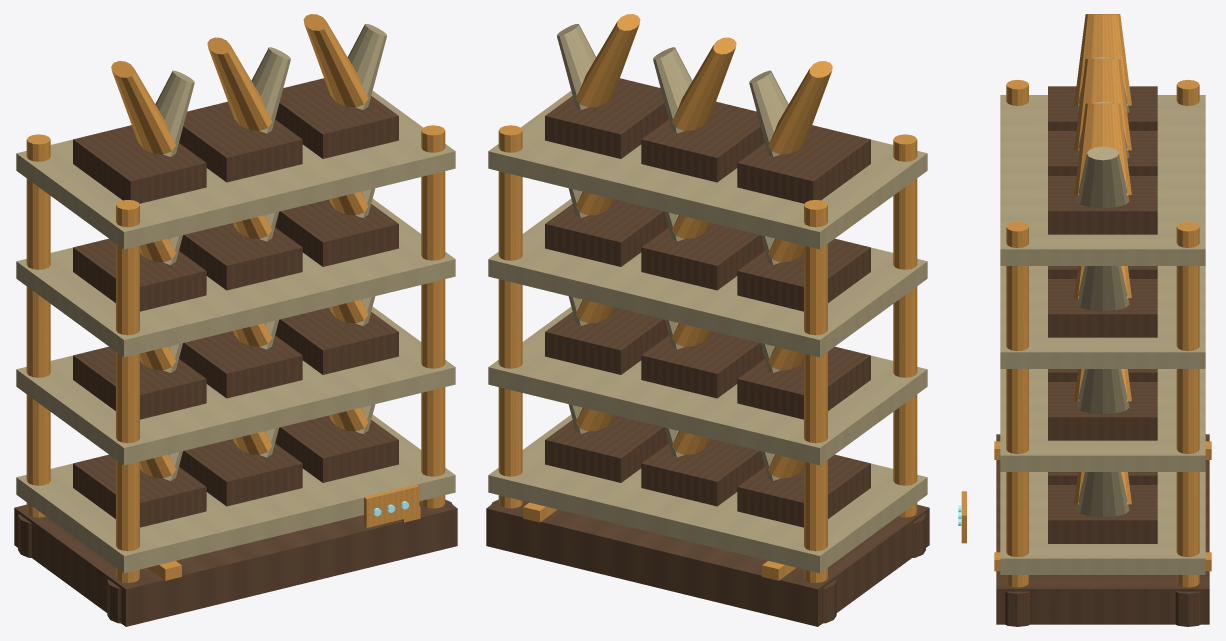
The model's file is atlas100-s014-a02.glb.
The picture shows the model from 3 angles, left to right: view 1: azimuth 30°, elevation 25°; view 2: azimuth 150°, elevation 25°; view 3: azimuth 270°, elevation 25°; orthographic projection. The views are drawn at different scales.
Parts seen in each view (by area): view 1: atlas100-s014-a02:part-000, atlas100-s014-a02:part-041, atlas100-s014-a02:part-021, atlas100-s014-a02:part-031, atlas100-s014-a02:part-011, atlas100-s014-a02:part-009, atlas100-s014-a02:part-005, atlas100-s014-a02:part-003, atlas100-s014-a02:part-042, atlas100-s014-a02:part-045, atlas100-s014-a02:part-048, atlas100-s014-a02:part-015 (+24 smaller); view 2: atlas100-s014-a02:part-000, atlas100-s014-a02:part-041, atlas100-s014-a02:part-021, atlas100-s014-a02:part-031, atlas100-s014-a02:part-011, atlas100-s014-a02:part-007, atlas100-s014-a02:part-003, atlas100-s014-a02:part-005, atlas100-s014-a02:part-042, atlas100-s014-a02:part-045, atlas100-s014-a02:part-048, atlas100-s014-a02:part-015 (+23 smaller); view 3: atlas100-s014-a02:part-041, atlas100-s014-a02:part-031, atlas100-s014-a02:part-021, atlas100-s014-a02:part-011, atlas100-s014-a02:part-000, atlas100-s014-a02:part-007, atlas100-s014-a02:part-009, atlas100-s014-a02:part-048, atlas100-s014-a02:part-028, atlas100-s014-a02:part-038, atlas100-s014-a02:part-018, atlas100-s014-a02:part-042 (+18 smaller).
Part boxes in pixels (<box>): atlas100-s014-a02:part-000: <box>14,499,457,626</box>; atlas100-s014-a02:part-041: <box>16,91,455,249</box>; atlas100-s014-a02:part-021: <box>16,307,455,465</box>; atlas100-s014-a02:part-031: <box>16,199,455,357</box>; atlas100-s014-a02:part-011: <box>16,415,455,573</box>; atlas100-s014-a02:part-009: <box>421,125,445,508</box>; atlas100-s014-a02:part-005: <box>116,200,139,582</box>; atlas100-s014-a02:part-003: <box>26,134,50,517</box>; atlas100-s014-a02:part-042: <box>73,125,206,203</box>; atlas100-s014-a02:part-045: <box>179,101,302,182</box>; atlas100-s014-a02:part-048: <box>275,78,398,158</box>; atlas100-s014-a02:part-015: <box>179,439,302,506</box>; atlas100-s014-a02:part-000: <box>486,499,929,626</box>; atlas100-s014-a02:part-041: <box>488,91,927,249</box>; atlas100-s014-a02:part-021: <box>488,307,927,465</box>; atlas100-s014-a02:part-031: <box>488,199,927,357</box>; atlas100-s014-a02:part-011: <box>488,415,927,573</box>; atlas100-s014-a02:part-007: <box>498,125,522,508</box>; atlas100-s014-a02:part-003: <box>804,200,827,582</box>; atlas100-s014-a02:part-005: <box>893,134,917,517</box>; atlas100-s014-a02:part-042: <box>737,125,870,203</box>; atlas100-s014-a02:part-045: <box>641,101,764,182</box>; atlas100-s014-a02:part-048: <box>545,78,668,158</box>; atlas100-s014-a02:part-015: <box>641,439,764,506</box>; atlas100-s014-a02:part-041: <box>1000,95,1205,265</box>; atlas100-s014-a02:part-031: <box>1000,266,1205,368</box>; atlas100-s014-a02:part-021: <box>1000,369,1205,471</box>; atlas100-s014-a02:part-011: <box>1000,472,1205,574</box>; atlas100-s014-a02:part-000: <box>996,434,1209,624</box>; atlas100-s014-a02:part-007: <box>1176,222,1199,587</box>; atlas100-s014-a02:part-009: <box>1006,222,1028,587</box>; atlas100-s014-a02:part-048: <box>1048,176,1157,234</box>; atlas100-s014-a02:part-028: <box>1048,382,1157,440</box>; atlas100-s014-a02:part-038: <box>1048,279,1157,337</box>; atlas100-s014-a02:part-018: <box>1048,485,1157,543</box>; atlas100-s014-a02:part-042: <box>1048,86,1157,130</box>.
Bounding box in the file's own units: 2.47 × 3.51 × 1.66.
Materials: 4 (4 with a texture image).
